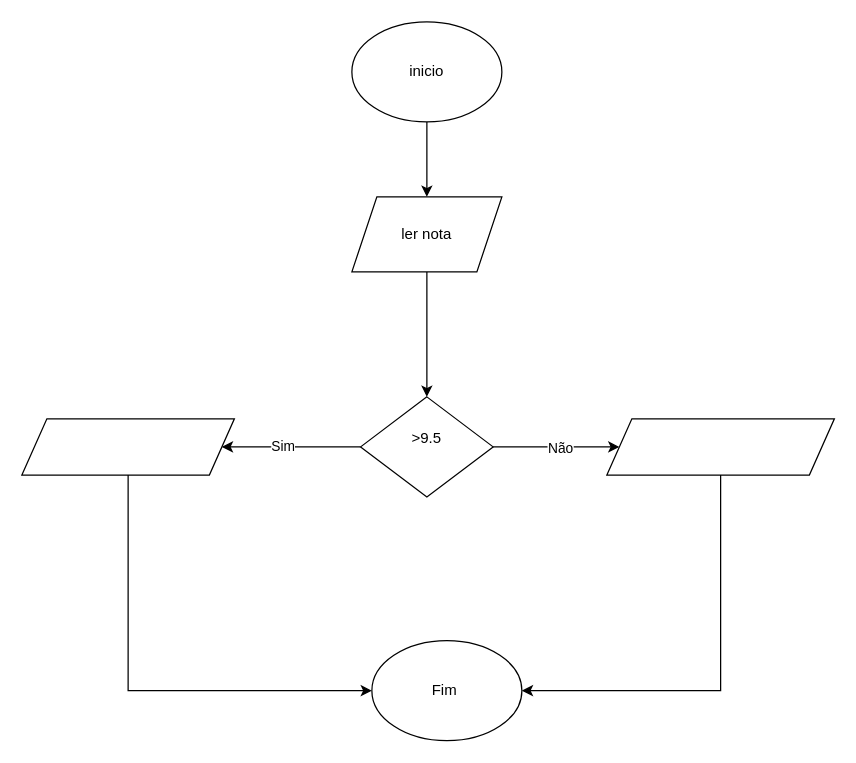
This 856x763 diagram has some shape labels left out. Here are the shapes that lost their labels. From the top down, the box of each, then its label:
(21, 418, 234, 475): escrever "aprovado"
(606, 418, 834, 475): escreve r "reprovado"
